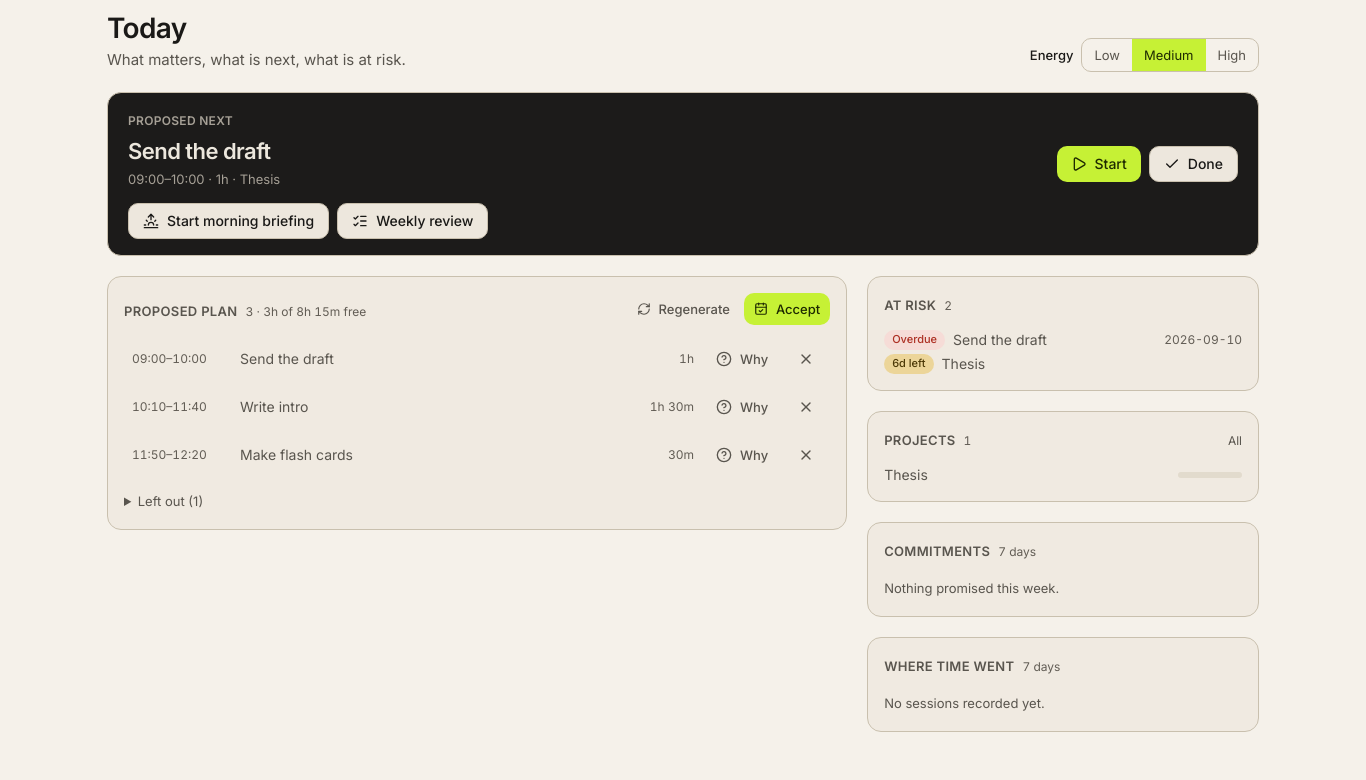
it: TodayPage › regenerate highlights what was added and names what was dropped
The width and height of the screenshot is (1366, 780).
Check: the element with test id "focus" is shown, box [107,92,1259,256]
What coordinates should you click on to do the following:
click the button "Regenerate"
I would click on:
 (683, 309)
Its box is [627,293,740,325].
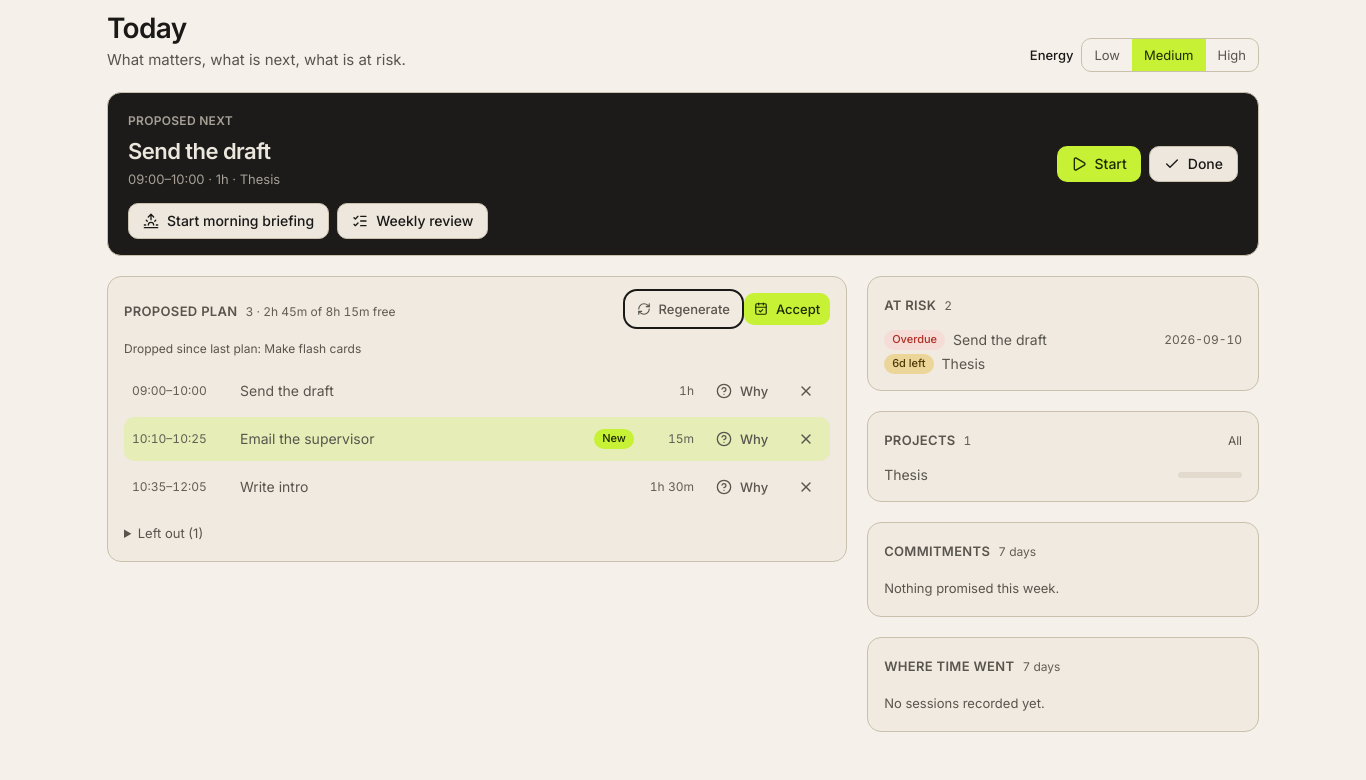
Check: the text with test id "plan-diff" reads "Dropped since last plan: Make flash cards", box [124,341,361,356]
